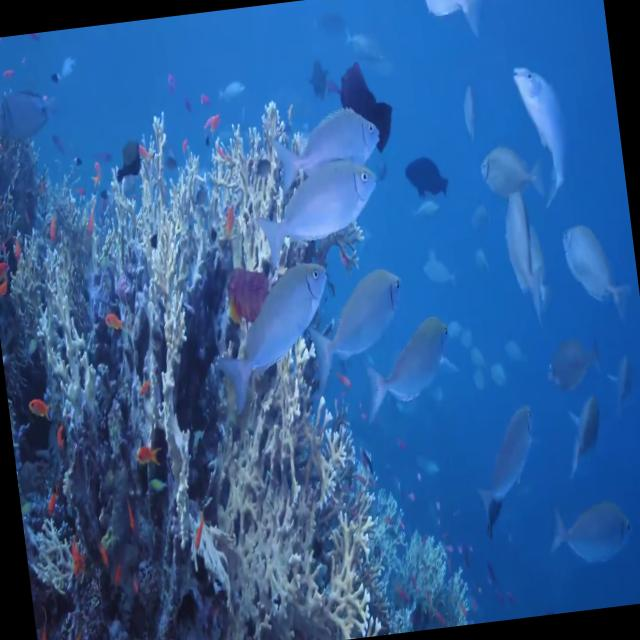fish: (195, 255, 352, 424), (240, 146, 388, 264), (344, 300, 468, 422), (301, 259, 418, 381), (454, 398, 554, 530), (262, 94, 390, 192), (508, 47, 580, 213), (490, 172, 560, 312), (558, 210, 638, 331), (331, 46, 408, 160), (537, 495, 640, 574), (469, 134, 558, 210), (0, 64, 66, 151), (536, 322, 606, 392), (558, 376, 612, 466), (596, 327, 640, 427), (389, 148, 455, 212), (418, 0, 494, 42), (453, 82, 492, 158), (210, 69, 256, 110), (18, 384, 52, 426), (132, 429, 168, 468), (102, 302, 127, 334)
